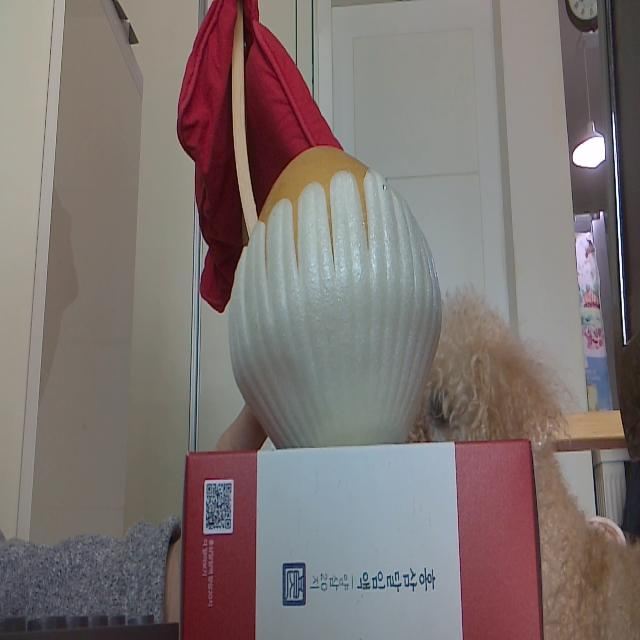pear: (233, 143, 444, 445)
